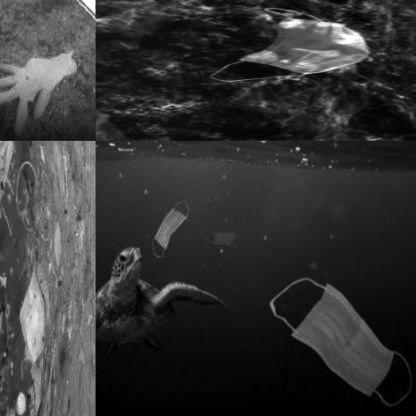Mask: (264, 258, 416, 415), (208, 5, 370, 82), (0, 46, 91, 140), (148, 194, 196, 263), (203, 218, 246, 264), (0, 140, 17, 210)
